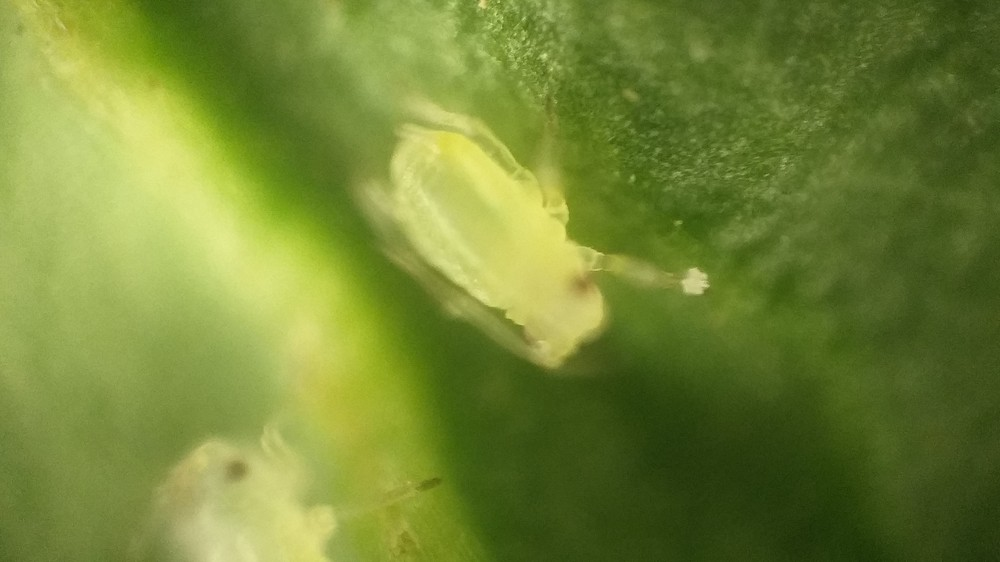Pulgon: (319, 112, 739, 395)
